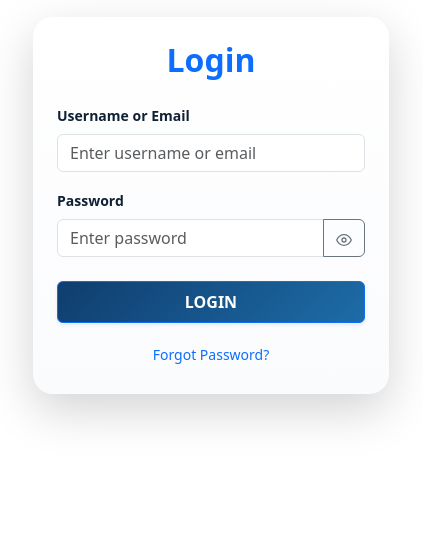
Login › shows the backend error for an invalid identifier
Type "missing-user" into the field labelled "Username or Email" at (211, 153), box [57,134,365,172]
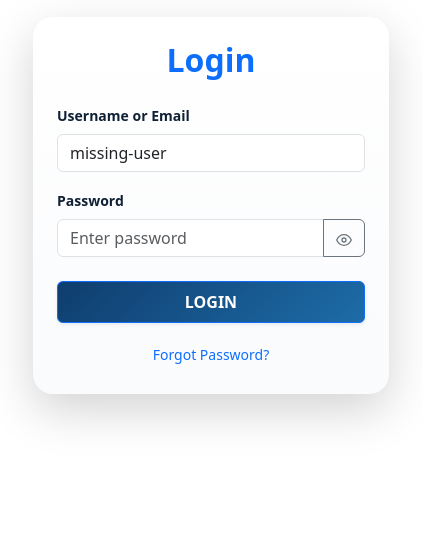
Type "secret123" into the password field labelled "Password" at (190, 238), box [57,219,324,257]
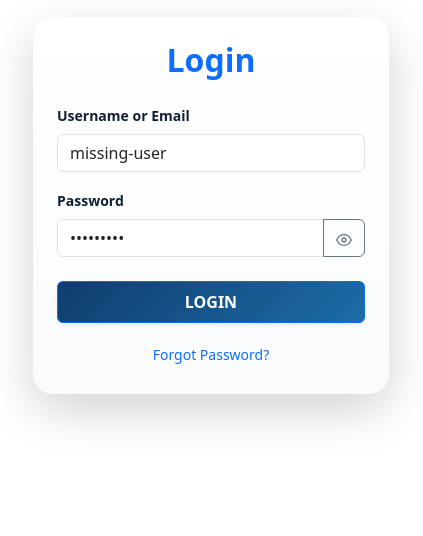
Click the button "LOGIN" at (211, 302), box [57,281,365,323]
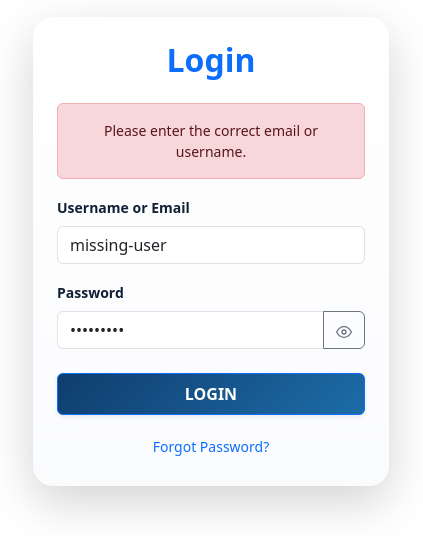
Expected: the text "Please enter the correct email or username." is shown, [57,103,365,179]
